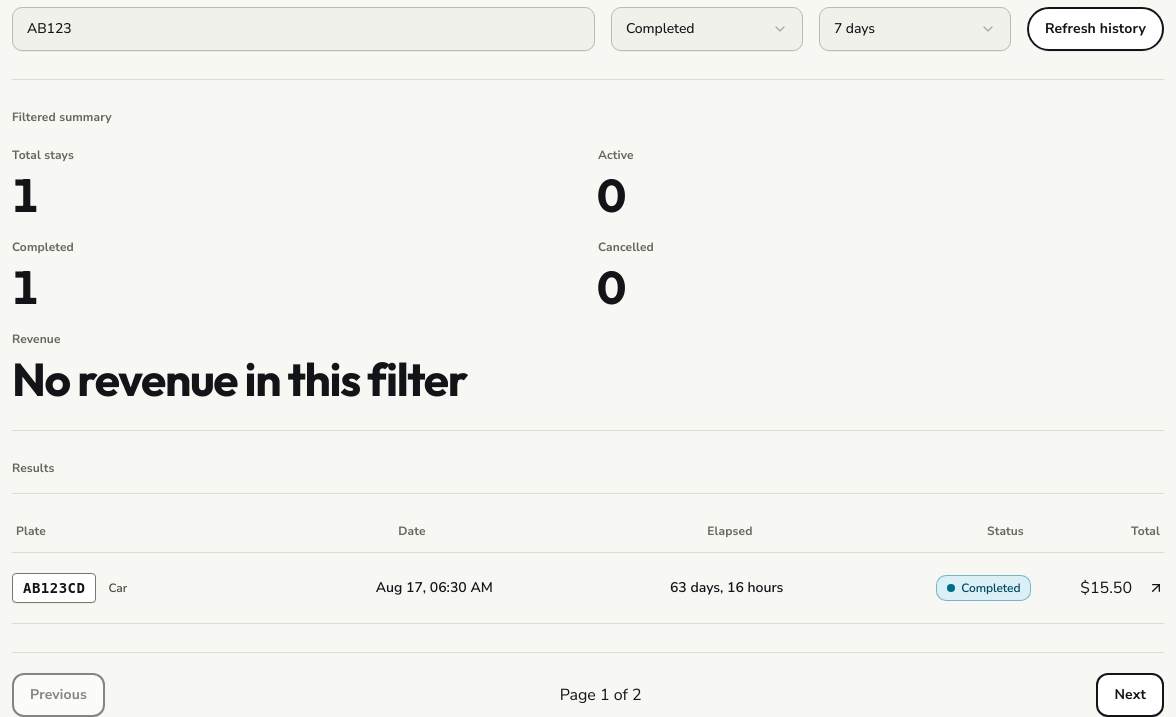
Test: parking session history pagination › preserves the status filter while moving to the next page
This screenshot has width=1176, height=717.
(page scrolled)
Expected: the link with aria-label "Open session for AB123CD" is shown, 12,553 -> 1164,624
Step 1. Click the button "Next" → (1130, 695), box 1096,673 -> 1164,716
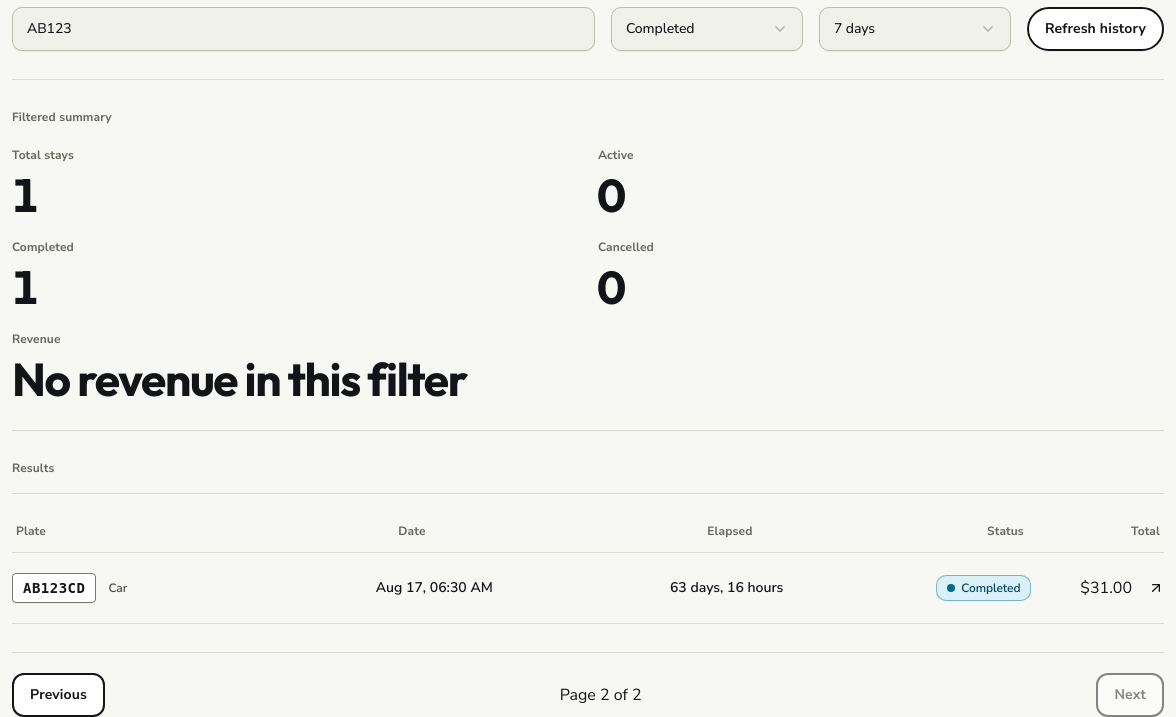
Expected: the text "$31.00" is shown, 1080,577 -> 1132,599
